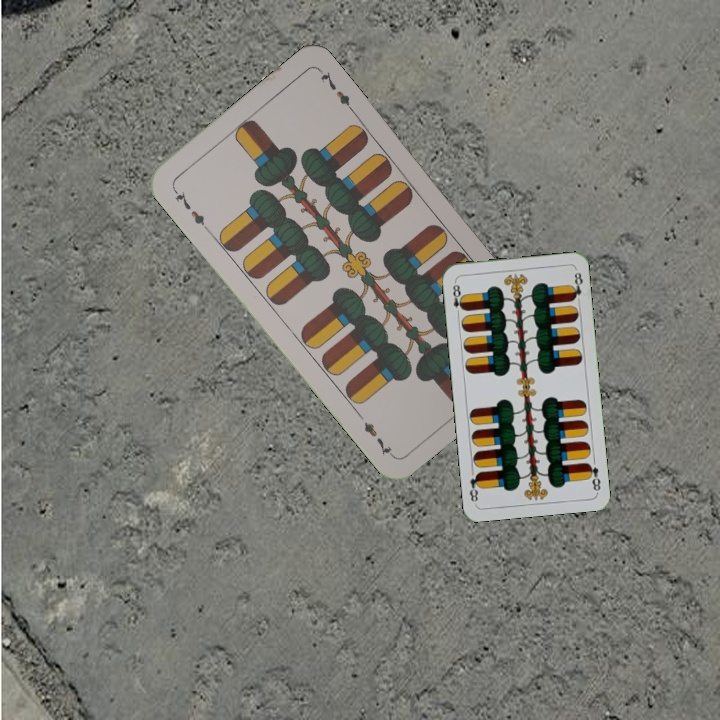E7: (169, 184, 211, 234)
E8: (449, 277, 467, 318), (583, 459, 603, 494)
